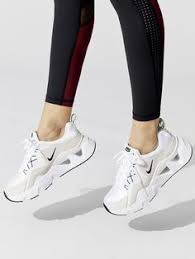nike: (145, 161, 159, 175), (47, 147, 59, 163)
